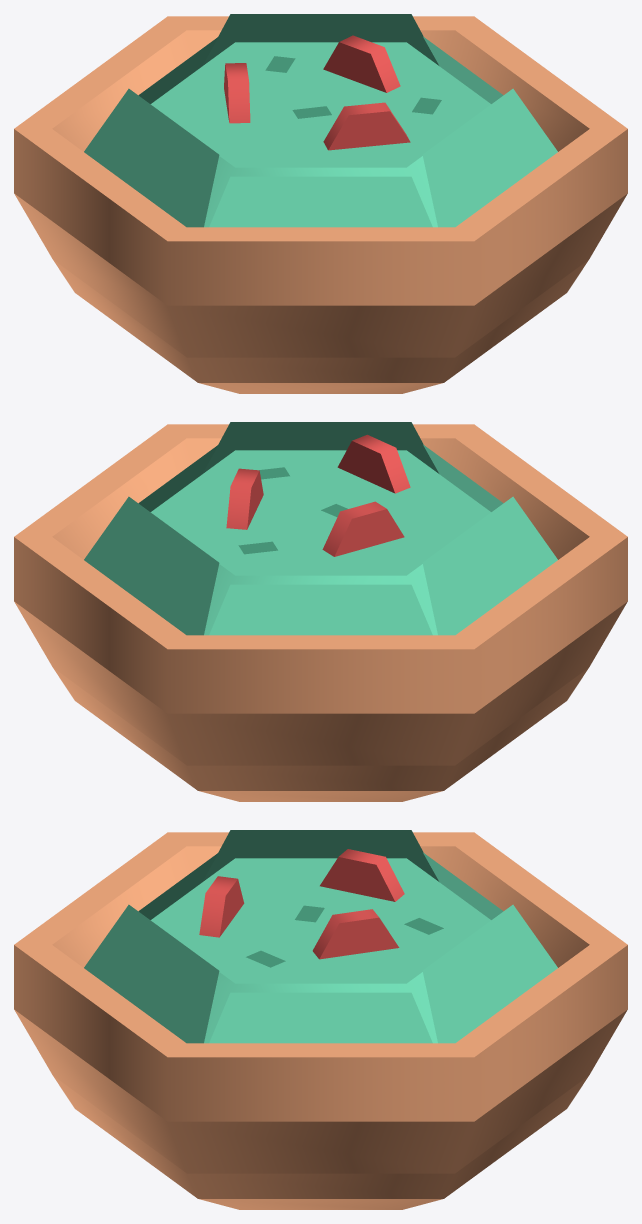
The model's file is salad.dae.
3 renders of one model, top to bottom at view 1: azimuth 30°, elevation 25°; view 2: azimuth 150°, elevation 25°; view 3: azimuth 270°, elevation 25°, orthographic.
Parts seen in each view (by area): view 1: salad; view 2: salad; view 3: salad.
Part boxes in pixels (x1,y1,x2,y2): salad: (14, 14, 627, 393); salad: (14, 422, 627, 801); salad: (14, 830, 627, 1209).
Size of the model in its own units: 0.5022 by 0.2734 by 0.5798.
